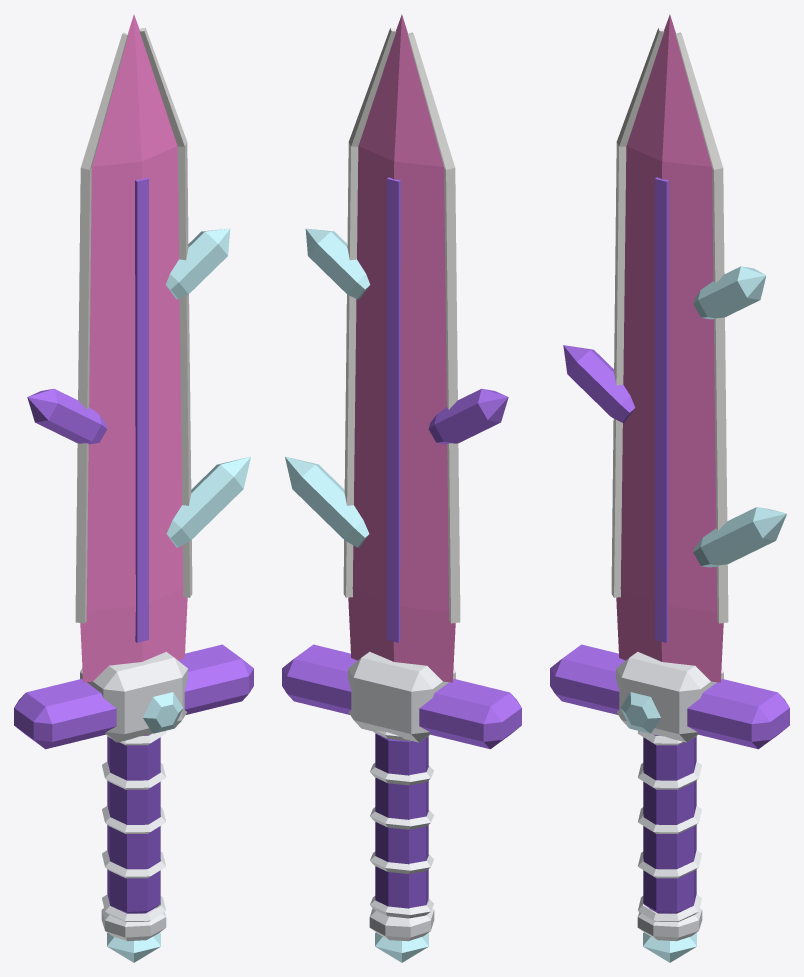
File: CrystalSword.fbx
3 views of the same model, side by side, from view 1: azimuth 30°, elevation 25°; view 2: azimuth 150°, elevation 25°; view 3: azimuth 330°, elevation 25° (orthographic).
Parts seen in each view (by area): view 1: CrystalSword; view 2: CrystalSword; view 3: CrystalSword.
Part boxes in pixels (bbox=[...]): CrystalSword: bbox=[14, 14, 253, 962]; CrystalSword: bbox=[282, 14, 521, 962]; CrystalSword: bbox=[550, 14, 789, 962].
Bounding box in the file's own units: 1.34 × 5.35 × 0.54.
1 material, 1 textured.
